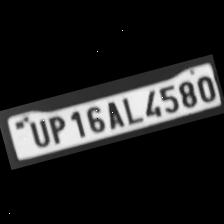0: (192, 71, 218, 105)
1: (64, 108, 89, 140)
4: (136, 87, 162, 121)
5: (154, 80, 181, 116)
6: (80, 102, 108, 136)
8: (173, 76, 198, 111)
A: (100, 96, 127, 130)
L: (116, 92, 141, 126)
P: (43, 112, 72, 146)
U: (24, 116, 52, 150)
